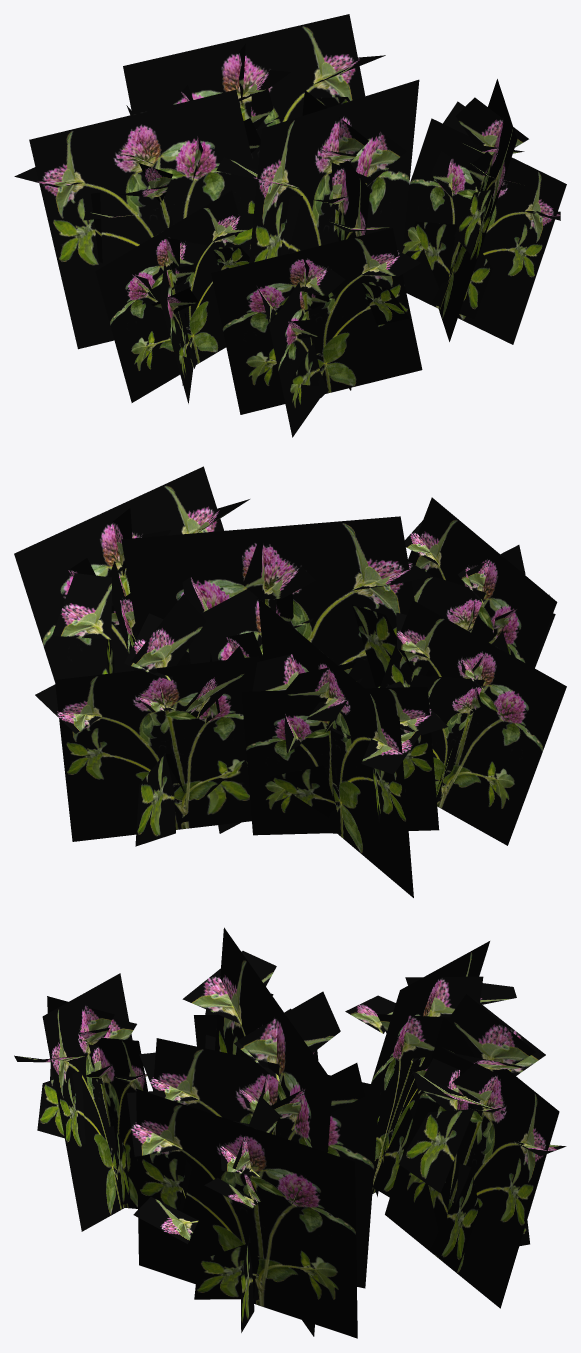
Rendered from 19_trifolium_pratense_big_001.fbx.
The picture shows the model from 3 angles, top to bottom: view 1: azimuth 30°, elevation 25°; view 2: azimuth 150°, elevation 25°; view 3: azimuth 270°, elevation 25°; orthographic projection. The views are drawn at different scales.
Visible parts, largest first — view 1: 19_trifolium_pratense_big.001; view 2: 19_trifolium_pratense_big.001; view 3: 19_trifolium_pratense_big.001.
Boxes of the visible parts, x1,y1,x2,y2 form: 19_trifolium_pratense_big.001: [14, 14, 566, 437]; 19_trifolium_pratense_big.001: [14, 466, 566, 897]; 19_trifolium_pratense_big.001: [14, 927, 566, 1338].
Bounding box in the file's own units: 0.1354 × 0.079 × 0.1261.
